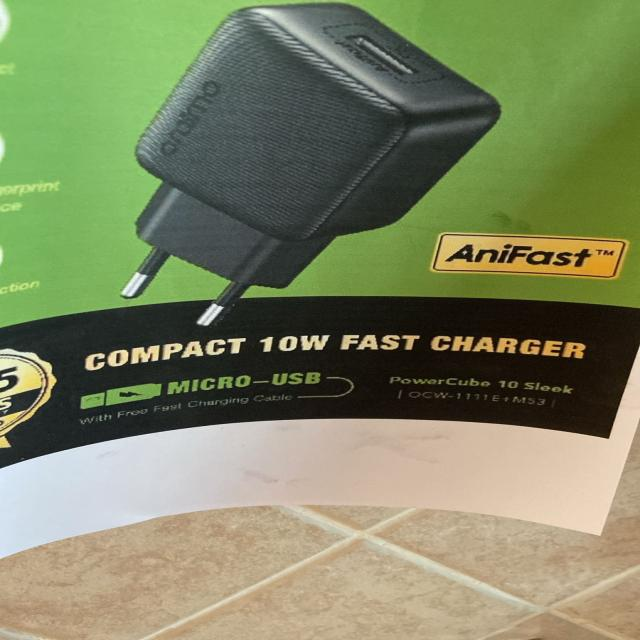PowerCube 10 Sleek OCW-1111ExM53: (384, 368, 597, 414)
